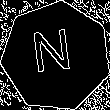N_S: (33, 29, 80, 84)
